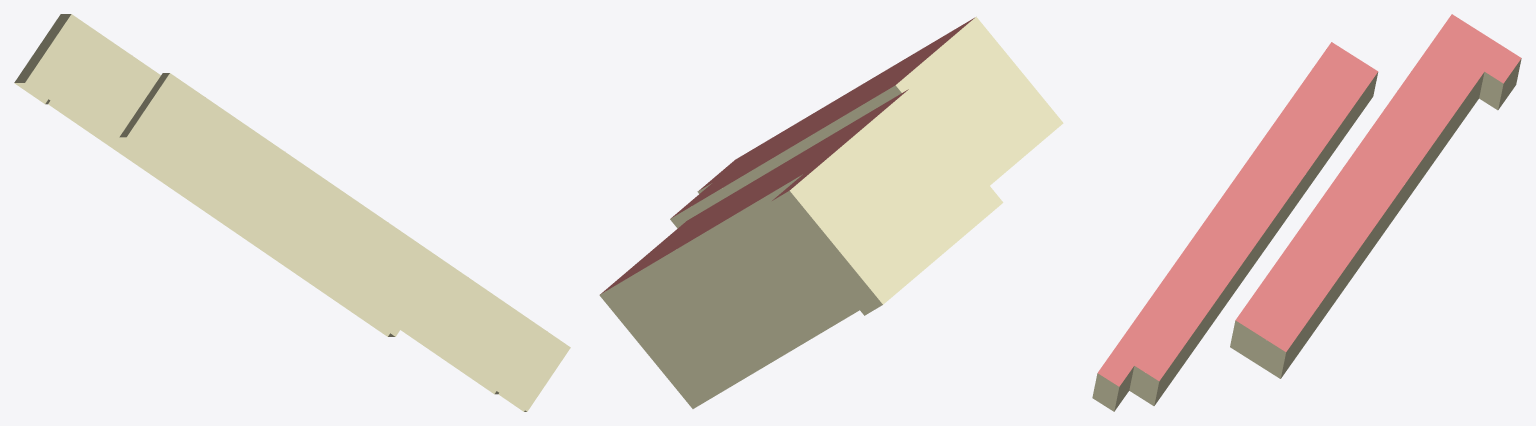
Rendered from tile_104.glb.
The picture shows the model from 3 angles, left to right: view 1: azimuth 30°, elevation 25°; view 2: azimuth 150°, elevation 25°; view 3: azimuth 270°, elevation 25°; orthographic projection. The views are drawn at different scales.
Visible parts, largest first — view 1: Batched_Building_ID_454FDC9B-F4E5-4EE5-B4E0-FC25F6AEE8EE; view 2: Batched_Building_ID_454FDC9B-F4E5-4EE5-B4E0-FC25F6AEE8EE; view 3: Batched_Building_ID_454FDC9B-F4E5-4EE5-B4E0-FC25F6AEE8EE.
Boxes of the visible parts, left/top/right/bottom form: Batched_Building_ID_454FDC9B-F4E5-4EE5-B4E0-FC25F6AEE8EE: left=14, top=14, right=570, bottom=411; Batched_Building_ID_454FDC9B-F4E5-4EE5-B4E0-FC25F6AEE8EE: left=599, top=16, right=1063, bottom=408; Batched_Building_ID_454FDC9B-F4E5-4EE5-B4E0-FC25F6AEE8EE: left=1092, top=14, right=1521, bottom=411.
Bounding box in the file's own units: 28.42 × 24.45 × 33.38.
